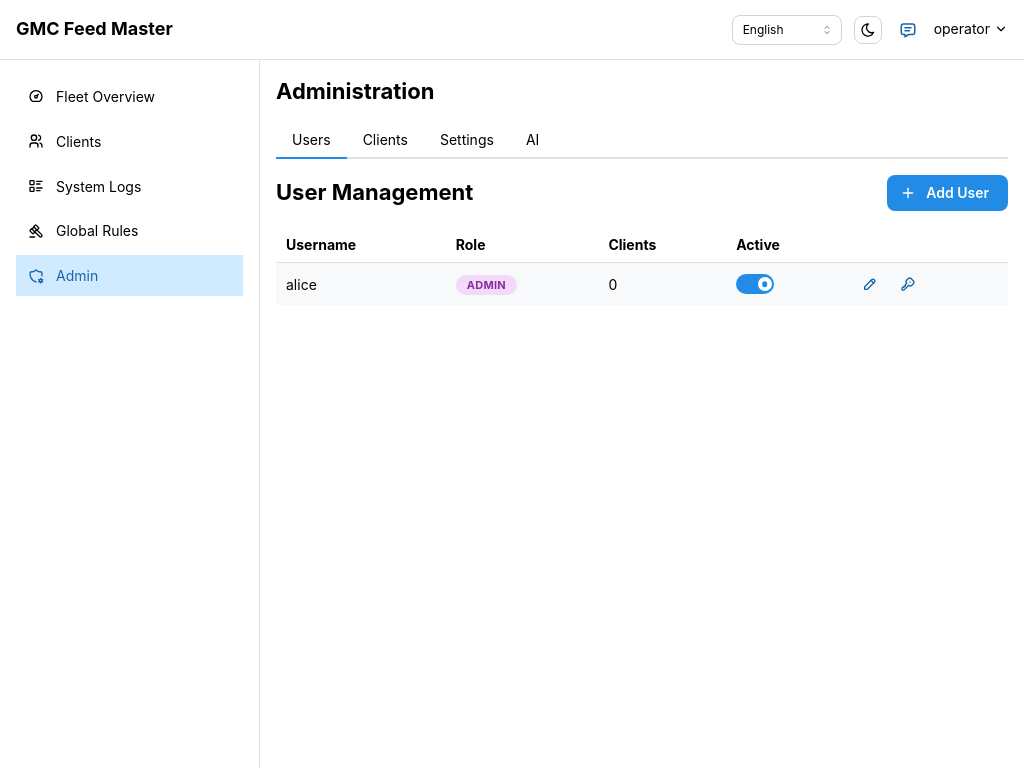
it: AdminPage › navigates between tabs via the URL
The image size is (1024, 768).
Expected: the table with test id "admin-users-table" is shown, [276,227,1008,306]
Click the tab "Clients" at (385, 141), box [347,123,424,159]
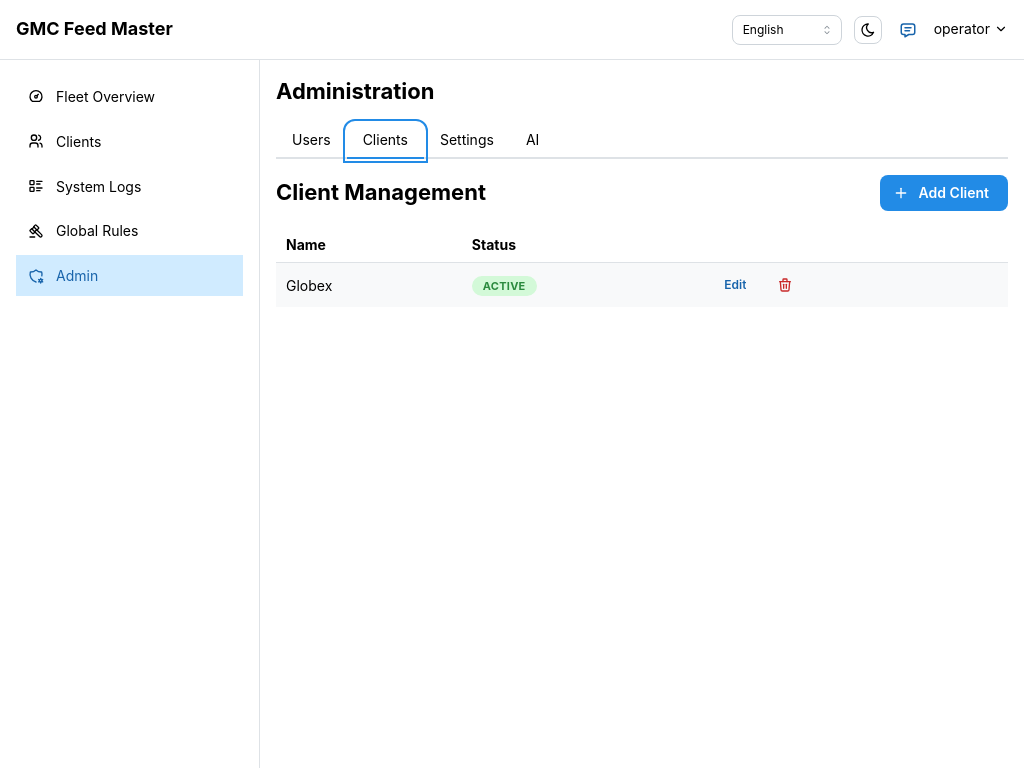
Now the table with test id "admin-clients-table" is shown, box [276,227,1008,308]
